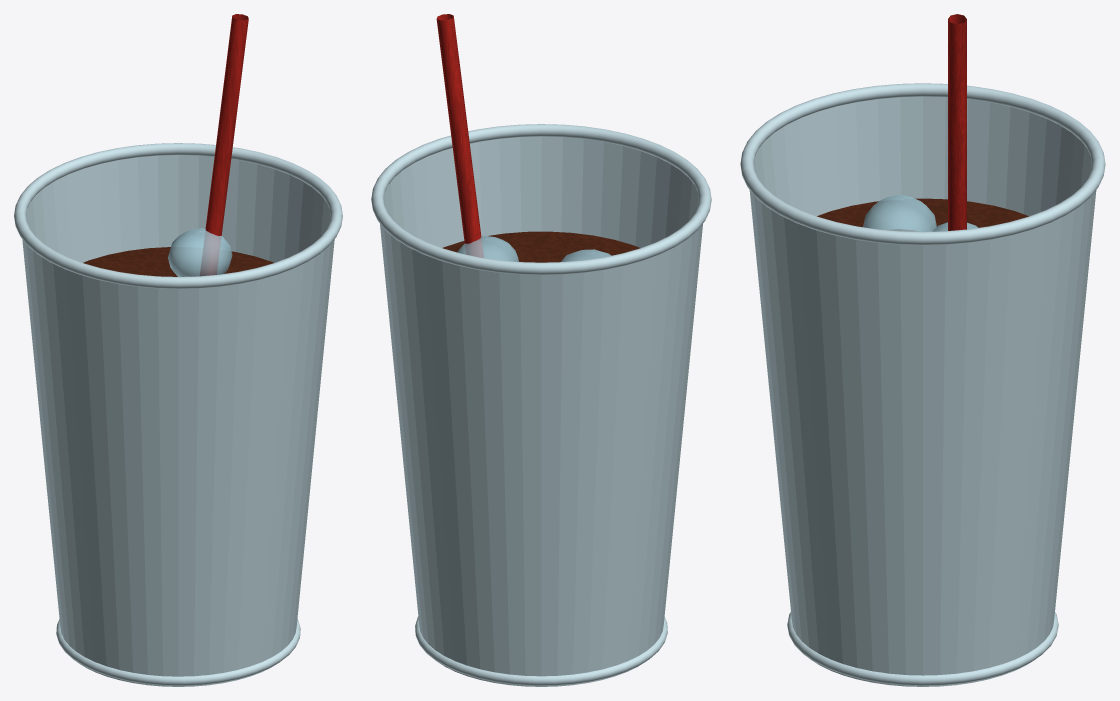
The model's file is milo-frio.glb.
3 views of the same model, side by side, from view 1: azimuth 30°, elevation 25°; view 2: azimuth 150°, elevation 25°; view 3: azimuth 270°, elevation 25° (orthographic). The views are drawn at different scales.
Visible parts, largest first — view 1: glass, straw, ice, chocolateDrink; view 2: glass, straw, chocolateDrink, ice; view 3: glass, straw, chocolateDrink, ice.
Boxes of the visible parts, x1,y1,x2,y2 form: glass: (14,143,342,686); straw: (200,14,248,275); ice: (168,228,232,276); chocolateDrink: (83,247,273,276); glass: (371,124,711,686); straw: (436,14,483,257); chocolateDrink: (442,231,640,262); ice: (457,235,611,261); glass: (740,83,1105,686); straw: (948,14,966,230); chocolateDrink: (817,198,1028,231); ice: (863,194,978,231).
Bounding box in the file's own units: 0.191 × 0.3787 × 0.191.
4 materials, 4 textured.
